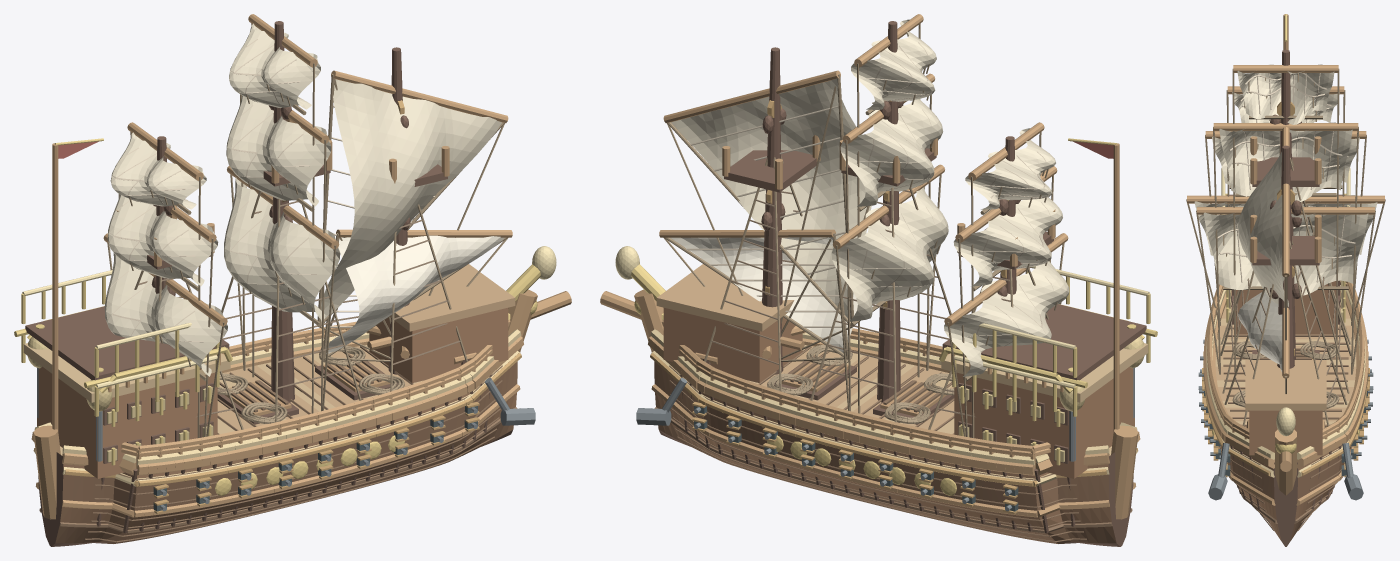
File: galleon-v5.glb
3 views of the same model, side by side, from view 1: azimuth 30°, elevation 25°; view 2: azimuth 150°, elevation 25°; view 3: azimuth 270°, elevation 25° (orthographic). The views are drawn at different scales.
Visible parts, largest first — view 1: galleon_sails_sail, galleon_deck_hull2, galleon_hull_wood, galleon_hull_hull, galleon_sails_sailbright, galleon_hull_seam, galleon_rigging_rope, galleon_rigging_wood, galleon_deck_darkwood, galleon_railings_wood, galleon_hull_pale, galleon_hull_hull2 (+25 smaller); view 2: galleon_sails_sail, galleon_deck_hull2, galleon_hull_wood, galleon_masts_darkwood, galleon_hull_hull, galleon_rigging_rope, galleon_rigging_wood, galleon_hull_seam, galleon_deck_darkwood, galleon_sails_sailbright, galleon_railings_wood, galleon_hull_pale (+25 smaller); view 3: galleon_sails_sail, galleon_rigging_wood, galleon_rigging_rope, galleon_masts_darkwood, galleon_hull_wood, galleon_deck_hull2, galleon_deck_deck, galleon_masts_rope, galleon_hull_deck, galleon_railings_wood, galleon_hull_seam, galleon_sails_sailbright (+16 smaller).
Part boxes in pixels (x1,y1,x2,y2): galleon_sails_sail: (104,23,501,376); galleon_deck_hull2: (37,308,508,478); galleon_hull_wood: (31,289,571,519); galleon_hull_hull: (55,361,517,543); galleon_sails_sailbright: (326,235,504,353); galleon_hull_seam: (39,346,517,542); galleon_rigging_rope: (107,23,508,448); galleon_rigging_wood: (103,14,512,326); galleon_deck_darkwood: (25,306,229,463); galleon_railings_wood: (121,321,492,468); galleon_hull_pale: (34,329,521,486); galleon_hull_hull2: (60,350,517,529); galleon_sails_sail: (671,19,1069,376); galleon_deck_hull2: (663,308,1134,478); galleon_hull_wood: (600,289,1140,519); galleon_masts_darkwood: (724,21,1053,402); galleon_hull_hull: (654,361,1116,543); galleon_rigging_rope: (663,23,1064,448); galleon_rigging_wood: (659,14,1068,326); galleon_hull_seam: (654,346,1132,542); galleon_deck_darkwood: (942,304,1146,463); galleon_sails_sailbright: (670,237,857,353); galleon_railings_wood: (679,328,1050,468); galleon_hull_pale: (650,329,1137,486); galleon_sails_sail: (1194,64,1377,306); galleon_rigging_wood: (1187,65,1384,378); galleon_rigging_rope: (1186,69,1385,393); galleon_masts_darkwood: (1252,49,1319,368); galleon_hull_wood: (1203,291,1368,505); galleon_deck_hull2: (1234,281,1337,455); galleon_deck_deck: (1245,360,1326,410); galleon_masts_rope: (1220,157,1351,425); galleon_hull_deck: (1215,305,1356,421); galleon_railings_wood: (1207,280,1364,439); galleon_hull_seam: (1219,305,1352,530); galleon_sails_sailbright: (1238,291,1282,372).
Bounding box in the file's own units: 56.83 × 48.47 × 21.57.
